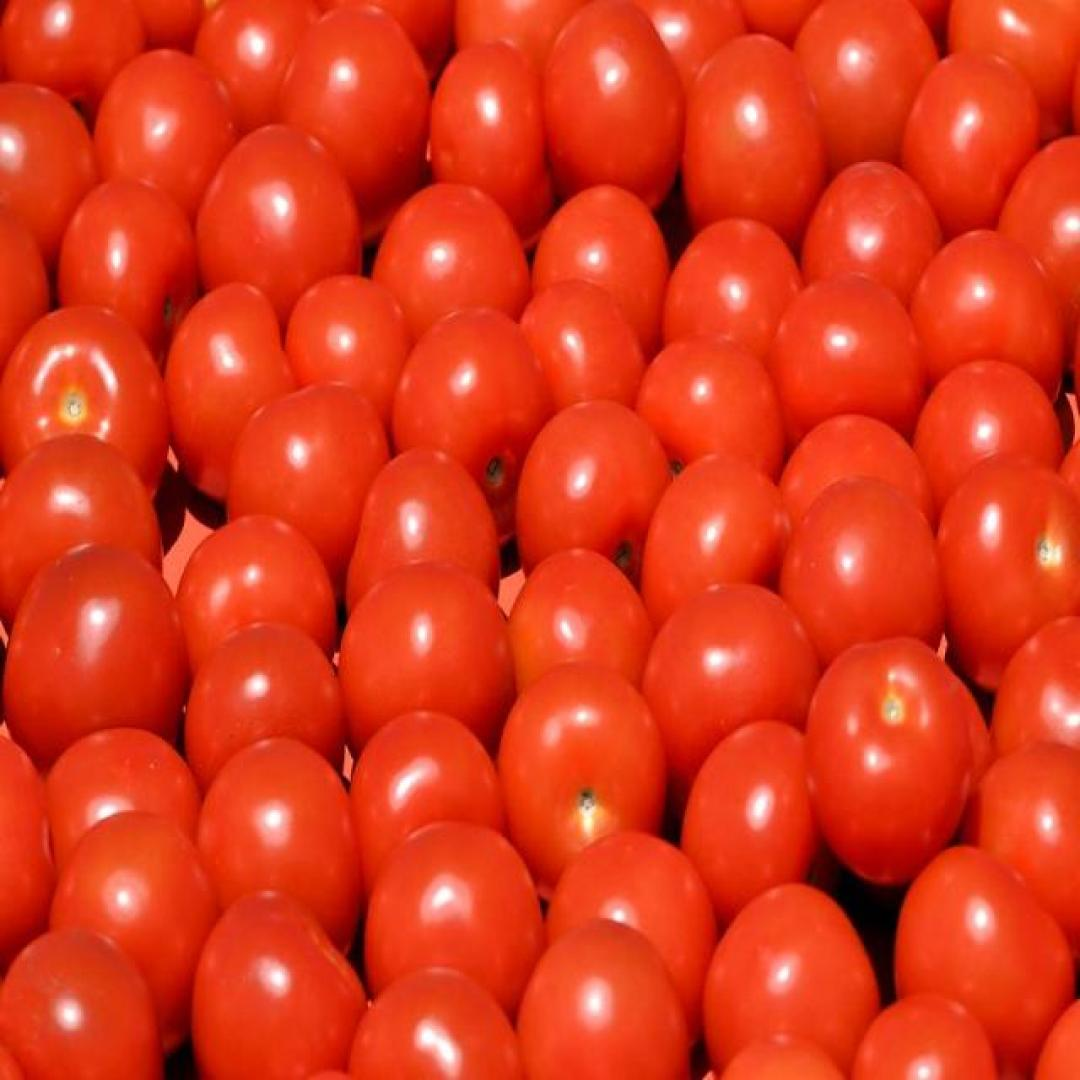matang: (496, 655, 665, 913), (807, 636, 970, 884), (392, 302, 555, 548)
